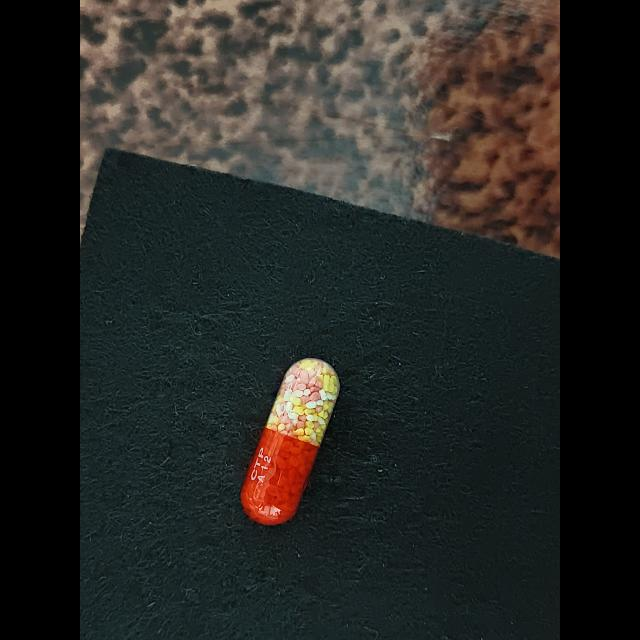Intact Capsule: (240, 358, 340, 526)
